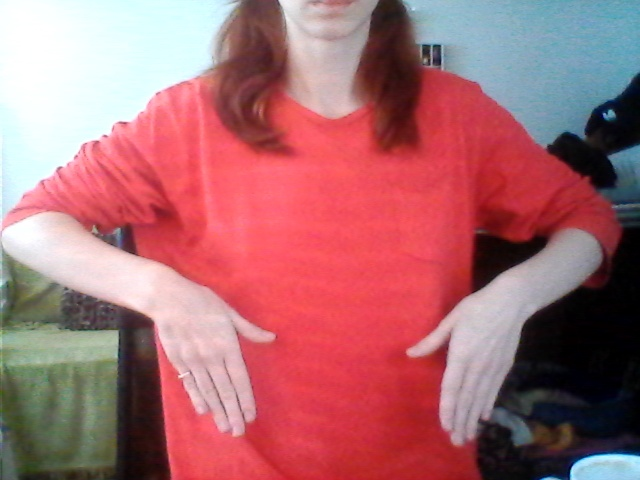zena: (127, 246, 523, 453)
